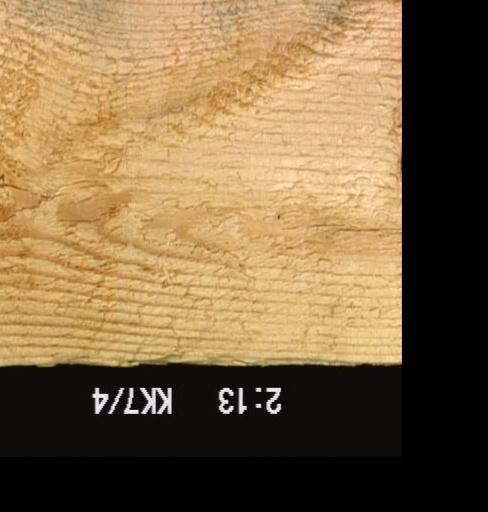split: (267, 211, 399, 234)
